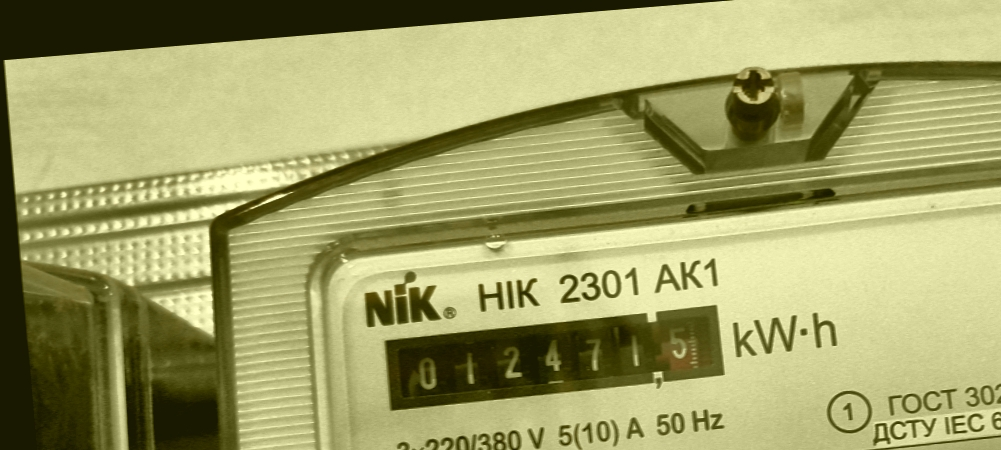0: (414, 352, 440, 390)
1: (462, 348, 477, 385), (627, 330, 641, 367)
2: (501, 342, 524, 379)
4: (541, 335, 563, 373)
5: (666, 321, 690, 360)
7: (581, 333, 604, 373)
screen: (372, 293, 737, 419)
